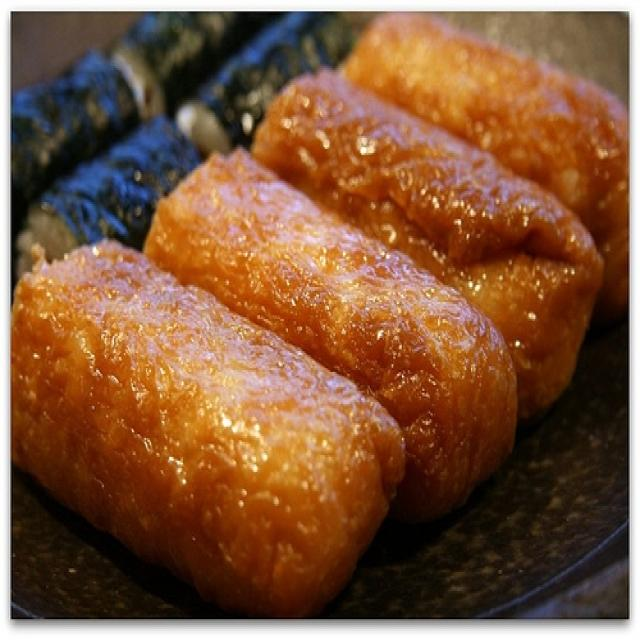寿司卷物: (13, 15, 626, 616)
